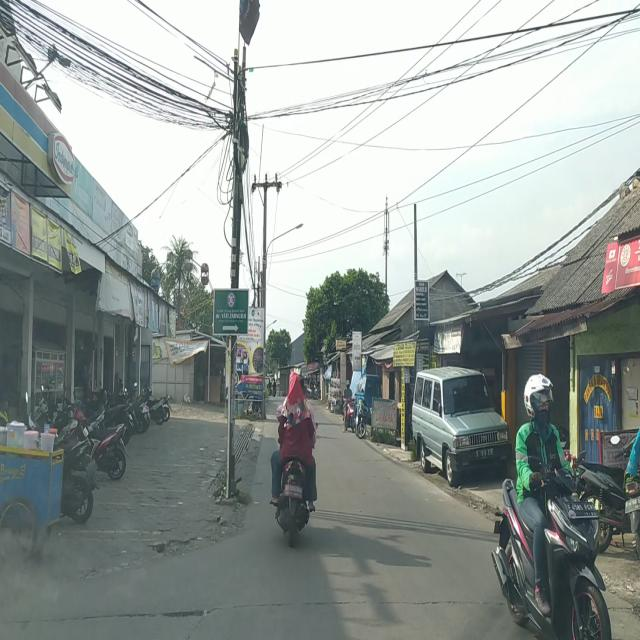Sewer Cover: (18, 600, 637, 624)
